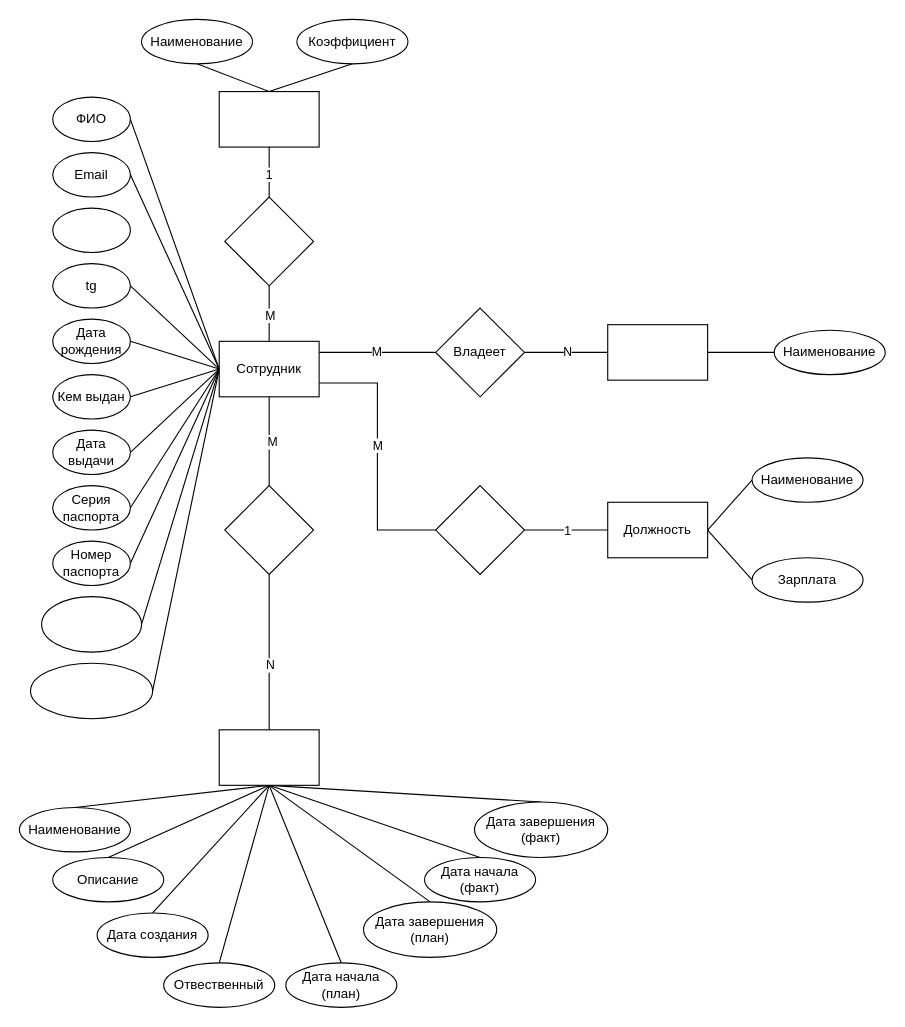
Image size: 905x1027. Some labels were removed from this diagram. The shapes that lost their labels are listed below. From the top down, each one's centre as x and y in pixels, then its label:
pixel 268 118: Уровень
pixel 91 230: Номер телефона
pixel 269 241: Имеет
pixel 657 352: Навык
pixel 269 529: Участвует
pixel 479 529: Занимает
pixel 91 624: Адрес регистрации
pixel 91 690: Адрес фактического проживания
pixel 268 757: Проект
